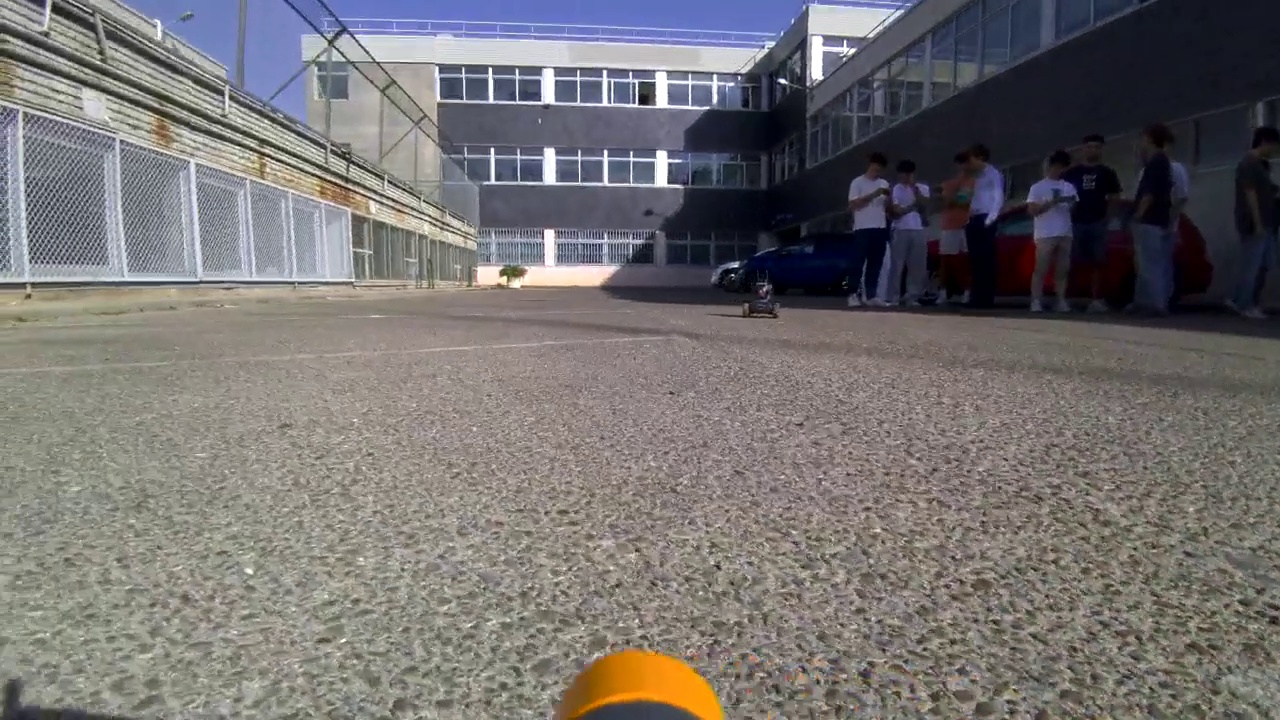robot: (736, 268, 790, 333)
